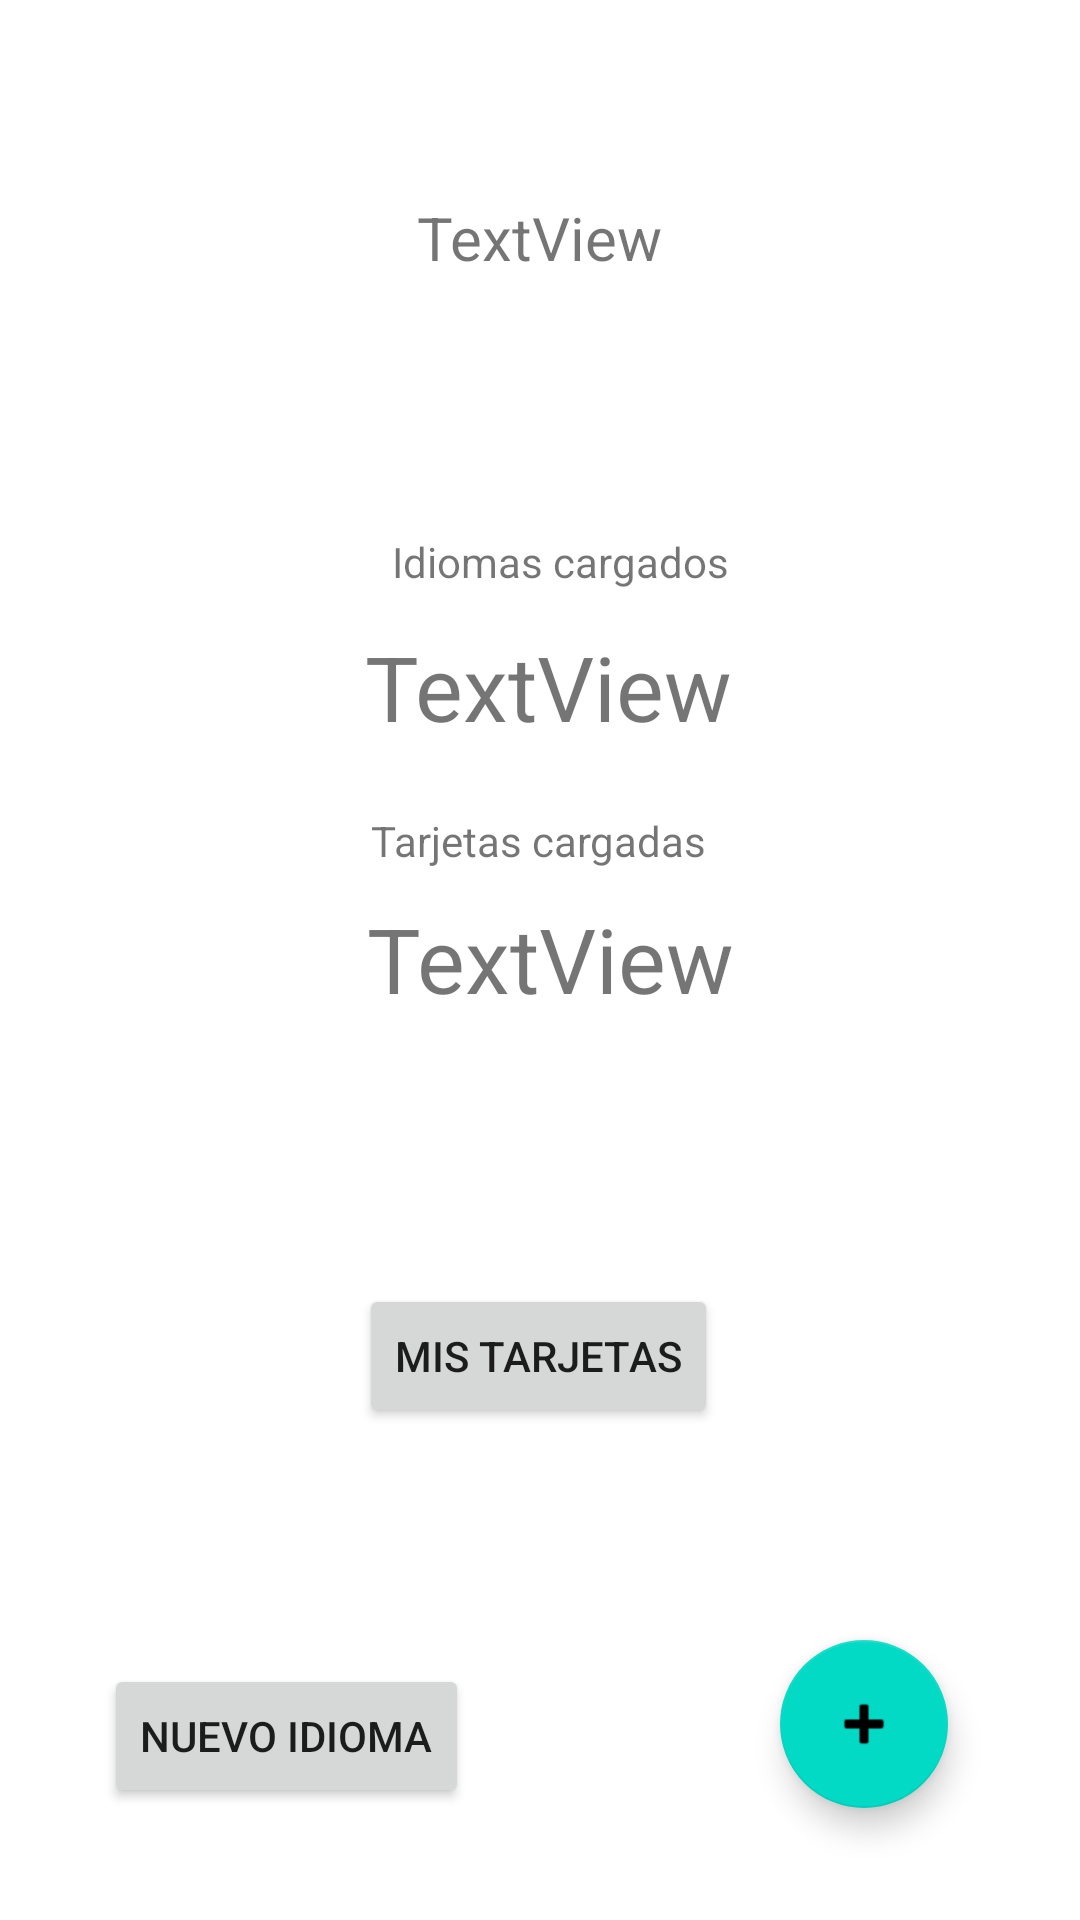

Icon click points for this 1080*1920 phone screenshot, format [x,y]:
add: [864,1724]
